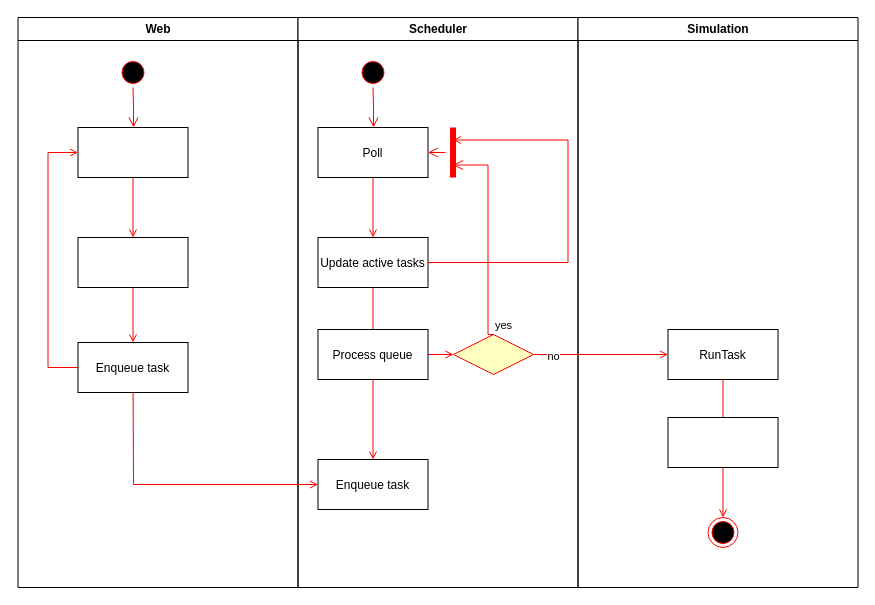
Some shapes in this 875 by 605 pixel diagram are drawn without their labels. The shapes that lost their labels are listed below. From the top down, each one's centre as x and y in pixels, then its label:
the point at 132,152: Run
the point at 132,262: Create task
the point at 493,354: queue empty
the point at 722,442: Task start
